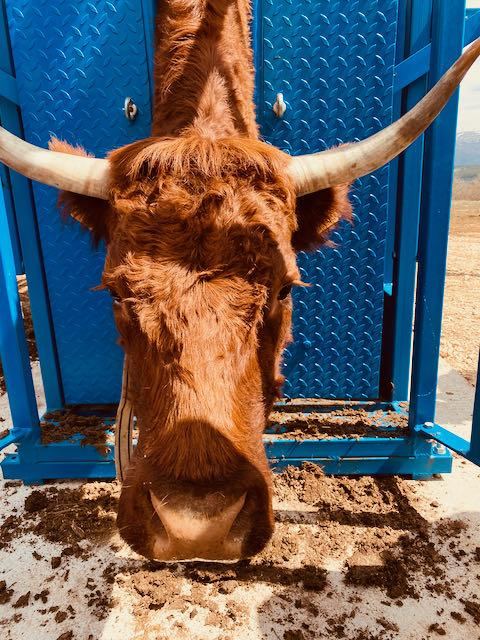muzzles: (104, 472, 286, 570)
